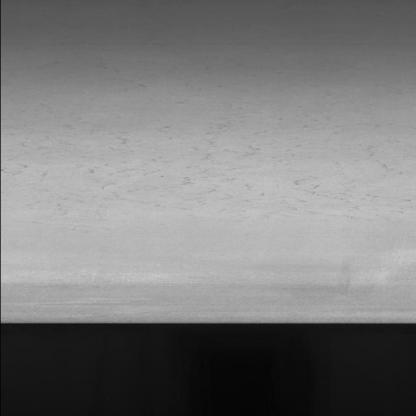silk_spot: (25, 106, 416, 211)
